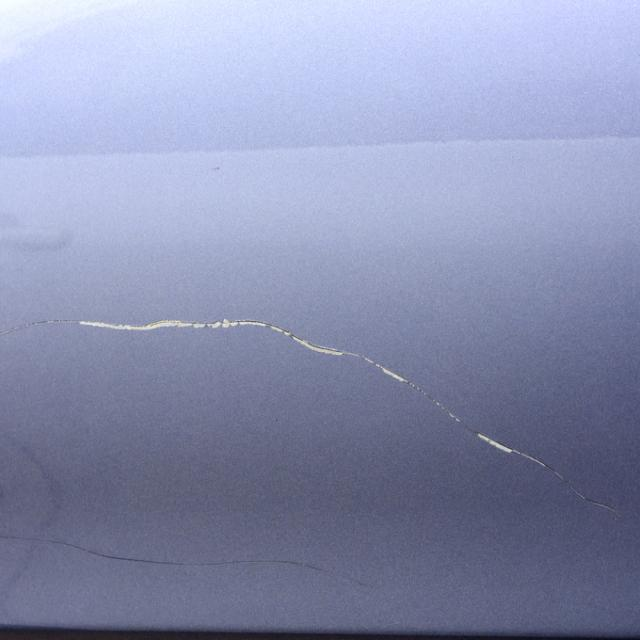scratch: (0, 315, 629, 528), (0, 532, 331, 578)
